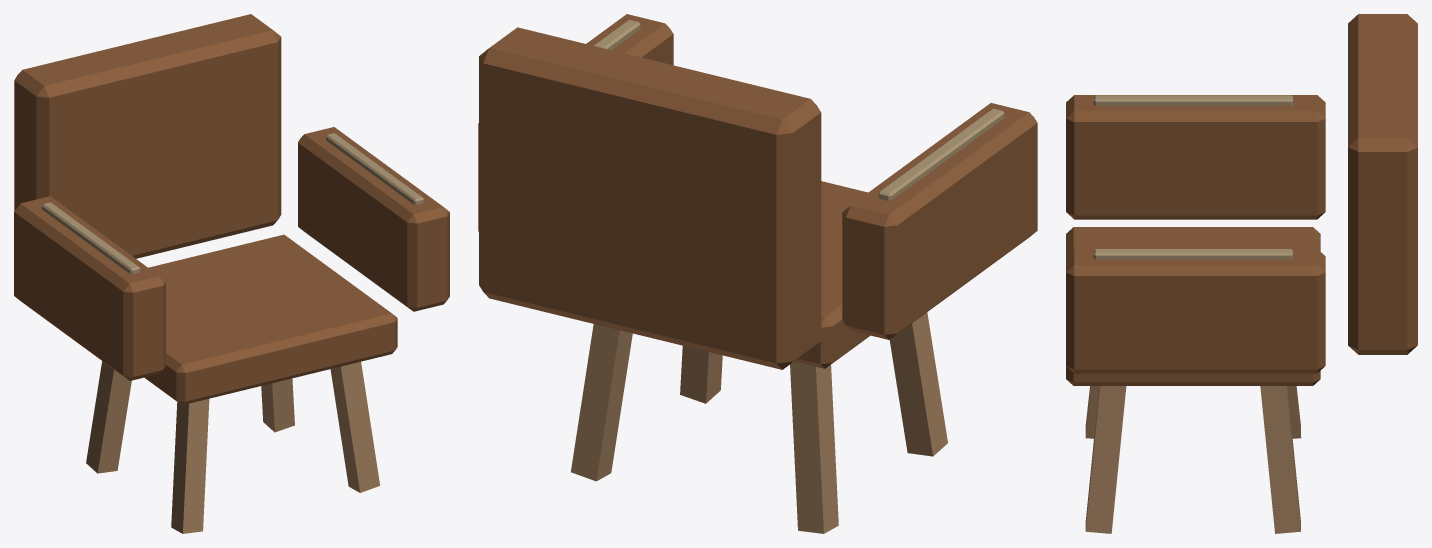
The model's file is yokocho-club-armchair.glb.
3 renders of one model, left to right at view 1: azimuth 30°, elevation 25°; view 2: azimuth 150°, elevation 25°; view 3: azimuth 270°, elevation 25°, orthographic. The views are drawn at different scales.
Parts seen in each view (by area): view 1: Shops/S06/Personality/Seating/5_club__Night_TobaccoLeather, Shops/S06/Personality/Seating/5_club__Night_Walnut, Shops/S06/Personality/Seating/5_club__Bronze; view 2: Shops/S06/Personality/Seating/5_club__Night_TobaccoLeather, Shops/S06/Personality/Seating/5_club__Night_Walnut, Shops/S06/Personality/Seating/5_club__Bronze; view 3: Shops/S06/Personality/Seating/5_club__Night_TobaccoLeather, Shops/S06/Personality/Seating/5_club__Night_Walnut, Shops/S06/Personality/Seating/5_club__Bronze.
Boxes of the visible parts, left/top/right/bottom form: Shops/S06/Personality/Seating/5_club__Night_TobaccoLeather: left=14, top=14, right=449, bottom=405; Shops/S06/Personality/Seating/5_club__Night_Walnut: left=86, top=361, right=380, bottom=533; Shops/S06/Personality/Seating/5_club__Bronze: left=42, top=133, right=423, bottom=274; Shops/S06/Personality/Seating/5_club__Night_TobaccoLeather: left=478, top=14, right=1037, bottom=369; Shops/S06/Personality/Seating/5_club__Night_Walnut: left=571, top=312, right=947, bottom=533; Shops/S06/Personality/Seating/5_club__Bronze: left=594, top=20, right=1004, bottom=200; Shops/S06/Personality/Seating/5_club__Night_TobaccoLeather: left=1066, top=14, right=1417, bottom=385; Shops/S06/Personality/Seating/5_club__Night_Walnut: left=1085, top=386, right=1301, bottom=533; Shops/S06/Personality/Seating/5_club__Bronze: left=1093, top=95, right=1292, bottom=259.
Bounding box in the file's own units: 0.84 × 0.9003 × 0.705.
